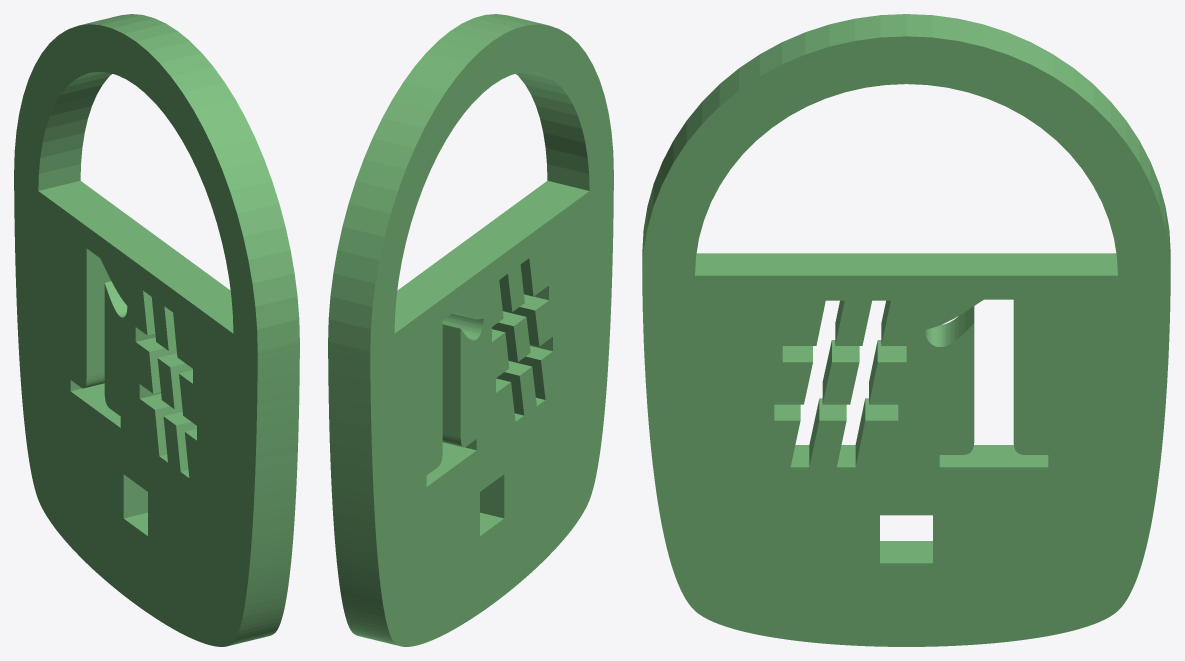
File: Lock_Green.glb
3 renders of one model, left to right at view 1: azimuth 30°, elevation 25°; view 2: azimuth 150°, elevation 25°; view 3: azimuth 270°, elevation 25°, orthographic. The views are drawn at different scales.
Visible parts, largest first — view 1: Mesh_Mesh_head_geo.001_lambert2SG.001; view 2: Mesh_Mesh_head_geo.001_lambert2SG.001; view 3: Mesh_Mesh_head_geo.001_lambert2SG.001.
Boxes of the visible parts, x1=… form: Mesh_Mesh_head_geo.001_lambert2SG.001: x1=14, y1=14, x2=299, y2=646; Mesh_Mesh_head_geo.001_lambert2SG.001: x1=328, y1=14, x2=613, y2=646; Mesh_Mesh_head_geo.001_lambert2SG.001: x1=642, y1=14, x2=1170, y2=646.
Bounding box in the file's own units: 0.1 × 1.27 × 1.
